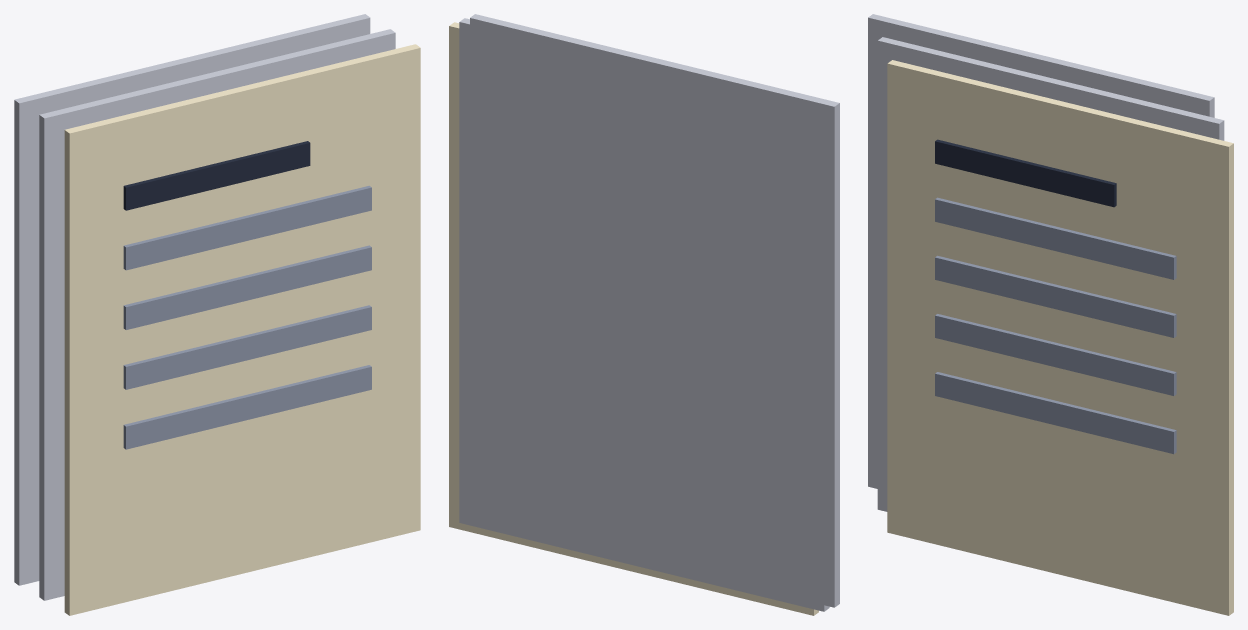
Rendered from document.glb.
The picture shows the model from 3 angles, left to right: view 1: azimuth 30°, elevation 25°; view 2: azimuth 150°, elevation 25°; view 3: azimuth 330°, elevation 25°; orthographic projection. The views are drawn at different scales.
Visible parts, largest first — view 1: sheet (×3), line (×5); view 2: sheet (×3); view 3: sheet (×3), line (×5).
Boxes of the visible parts, bbox=[...] form: sheet (×3): bbox=[14, 14, 420, 615]; line (×5): bbox=[123, 141, 371, 449]; sheet (×3): bbox=[449, 14, 839, 615]; sheet (×3): bbox=[868, 14, 1233, 615]; line (×5): bbox=[935, 139, 1176, 454].
Size of the model in its own units: 0.88 by 1.11 by 0.095.
